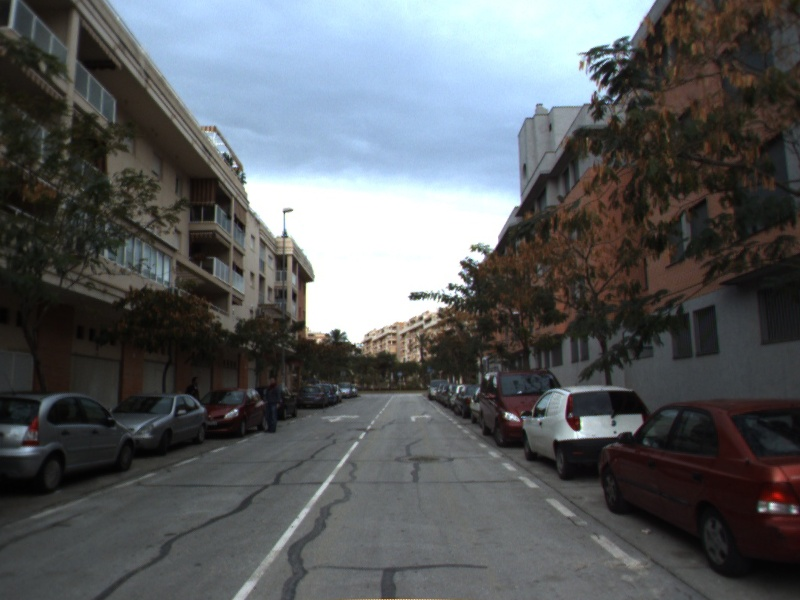RIGHT: (408, 412, 434, 423)
